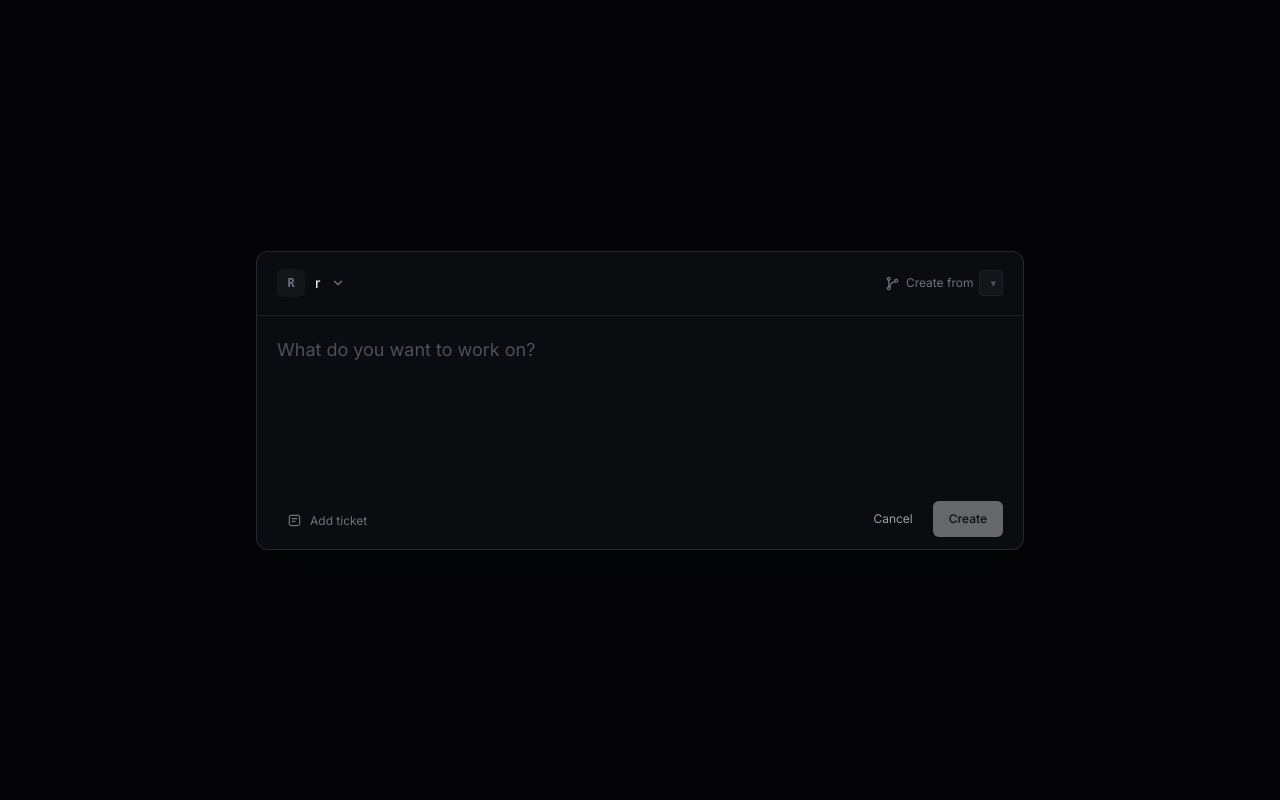
NewWorktreeDialog › does not load tickets until the ticket picker is opened
Click the button "Add ticket". click: (327, 520)
box: [277,504,377,536]
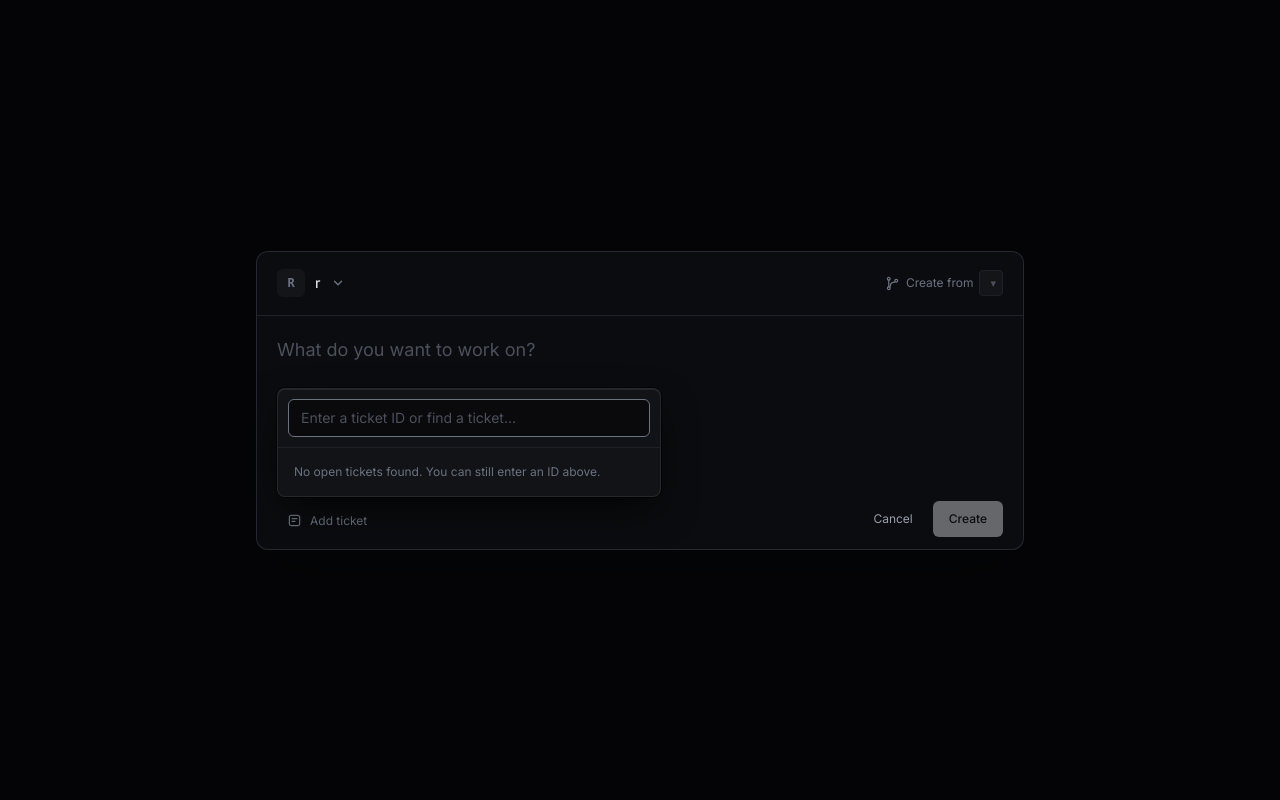
Result: the list named "My open tickets" is shown at [294,464,600,478]
